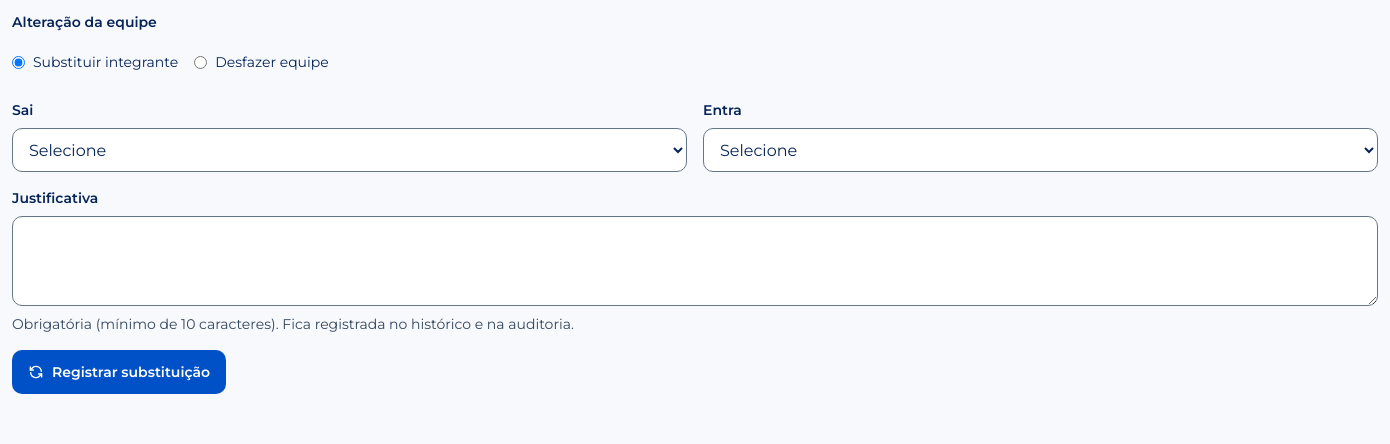
AcoesDupla (US4) › sem justificativa suficiente, nada chega ao servidor
The width and height of the screenshot is (1390, 444).
Select "Ana Exemplo" in the dropdown labelled "Sai": (350, 150) [12,128,687,172]
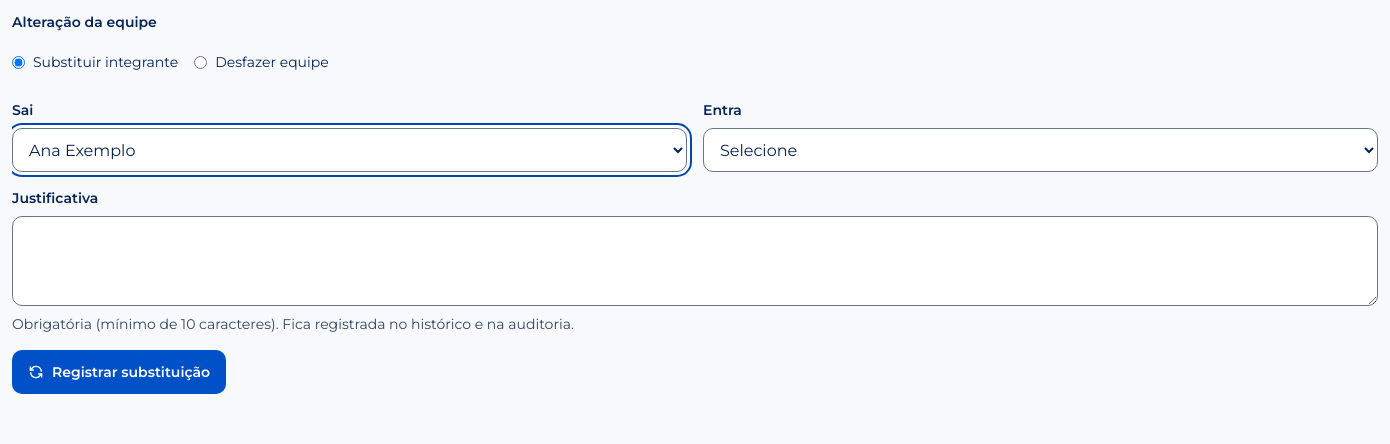
Select "Xavier Exemplo" in the dropdown labelled "Entra": (1040, 150) [703,128,1378,172]
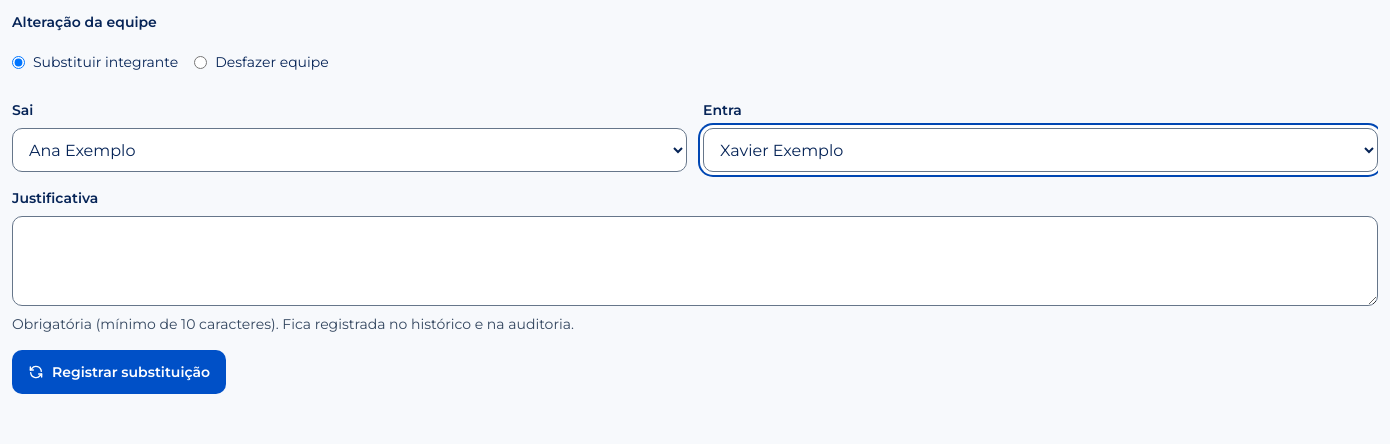
In the text box labelled "Justificativa": (695, 261) [12,216,1378,306], type "curta"
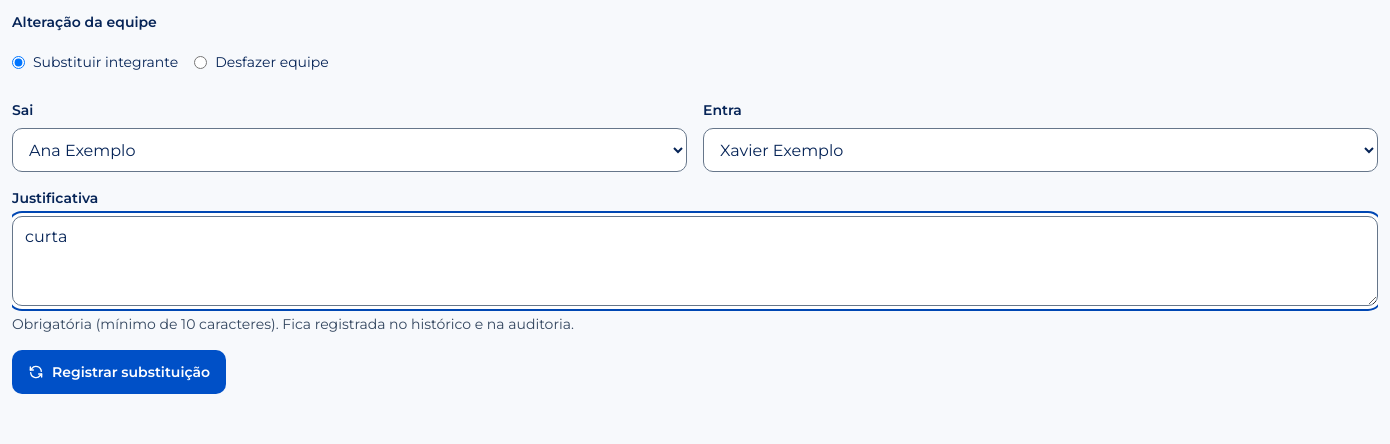
Click the button "Registrar substituição": click(119, 372) [12,350,226,394]
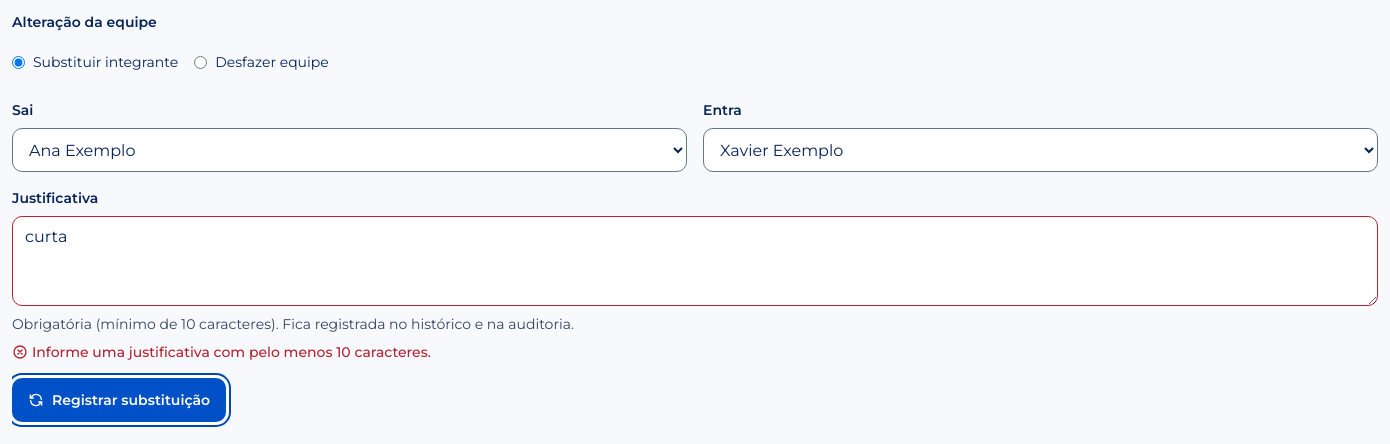
Expected: the text "Informe uma justificativa com pelo menos 10 caracteres." is shown, [12,343,431,361]
